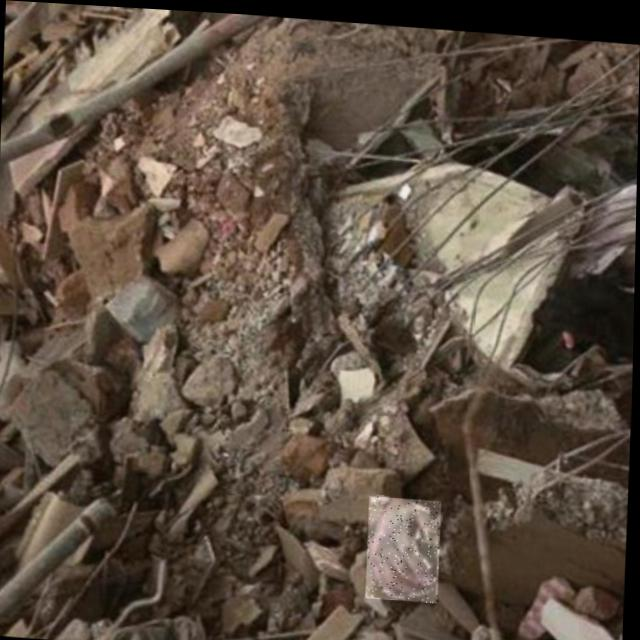Person in Rubble: (367, 490, 443, 596)
